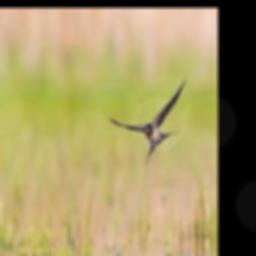Swallow: (109, 79, 184, 163)
